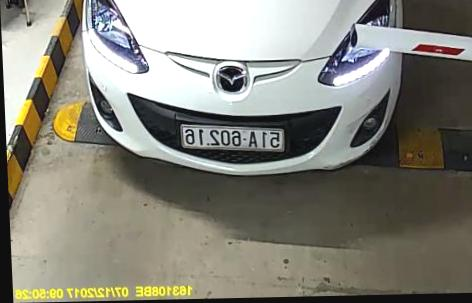License_Plate: (180, 121, 291, 155)
